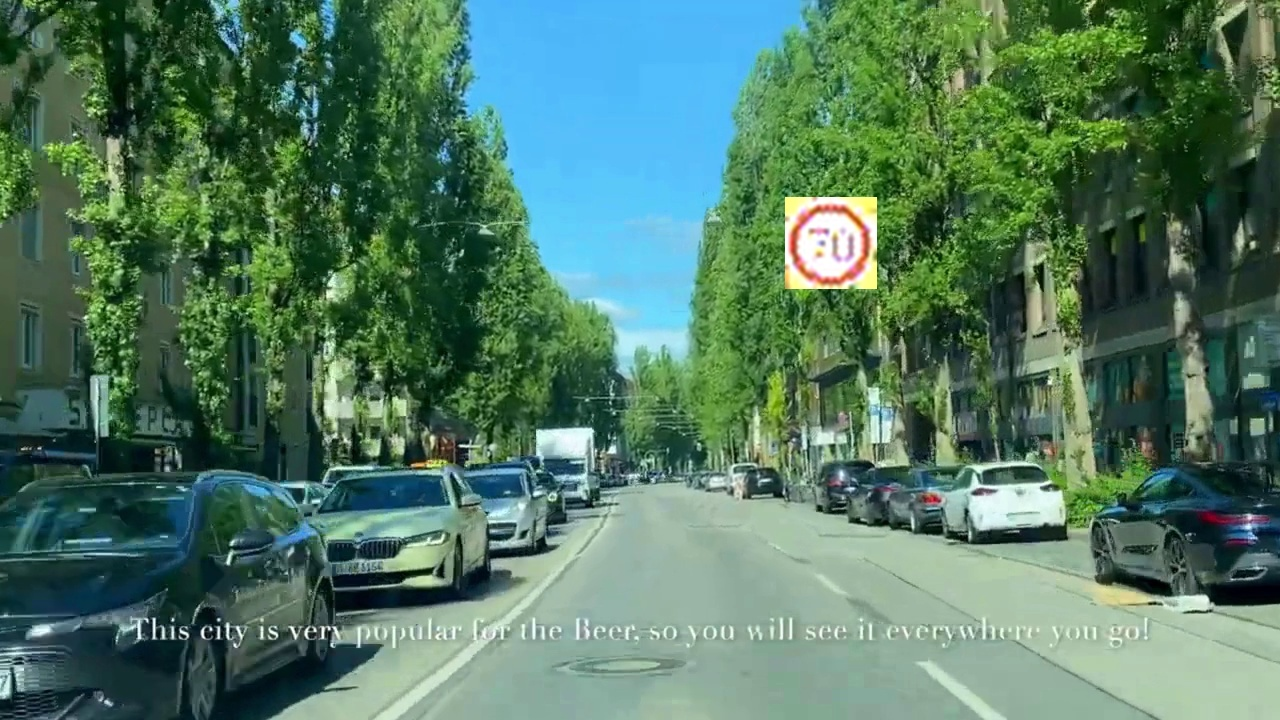Speed 70: (785, 197, 877, 289)
